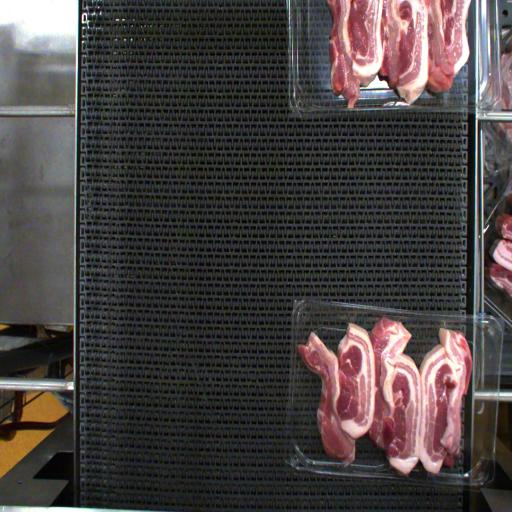packaging-error: (393, 463, 417, 488), (339, 453, 361, 474)
